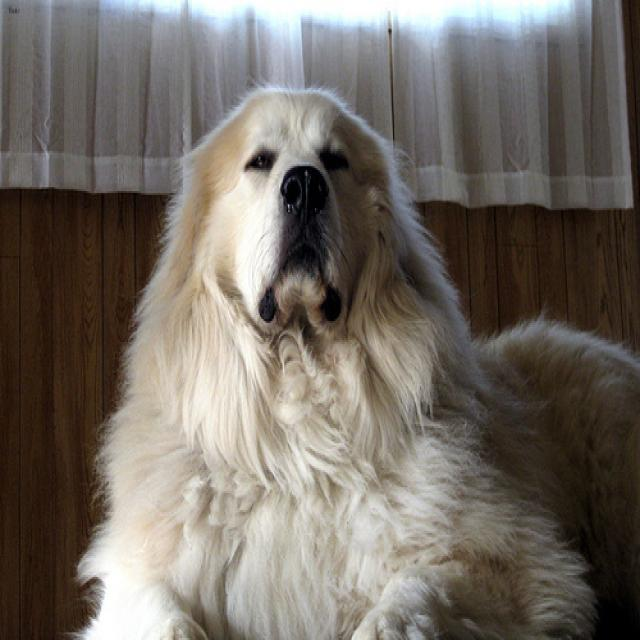dog-great_pyrenees: (64, 69, 637, 636)
